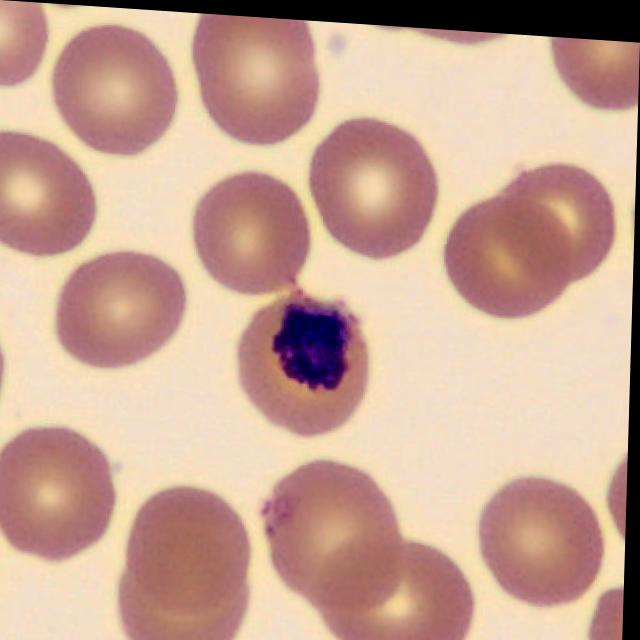Artefato: (271, 284, 366, 390)
